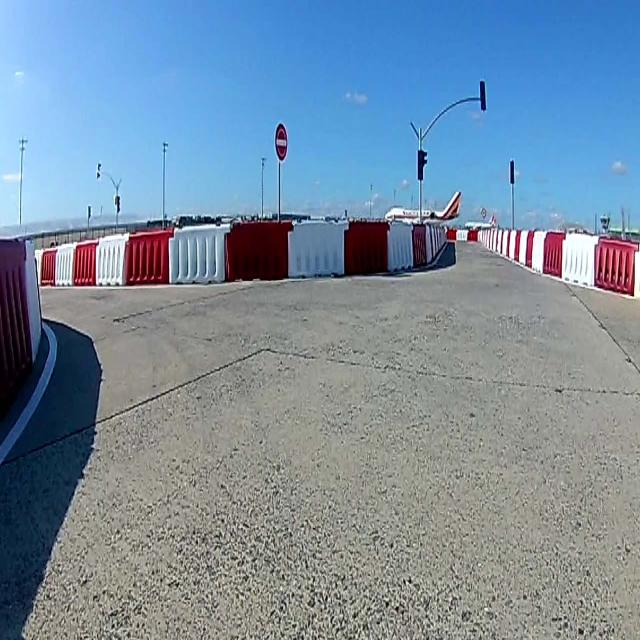girisyok: (274, 124, 288, 163)
